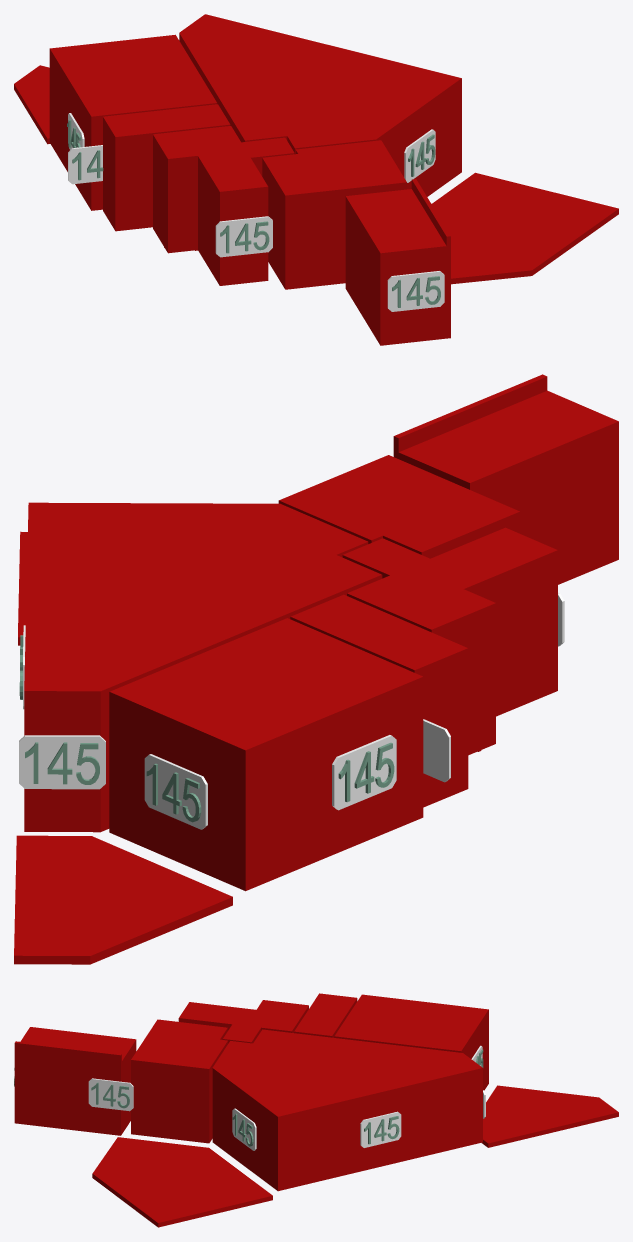
3 renders of one model, top to bottom at view 1: azimuth 30°, elevation 25°; view 2: azimuth 150°, elevation 25°; view 3: azimuth 270°, elevation 25°, orthographic. The views are drawn at different scales.
Parts seen in each view (by area): view 1: g_0, g_3, g_4, g_1, g_6, g_5, g_2, g_7, g_19, g_11, g_27, g_39; view 2: g_1, g_0, g_5, g_3, g_7, g_4, g_2, g_35, g_31, g_23, g_27, g_6; view 3: g_0, g_5, g_6, g_4, g_1, g_7, g_3, g_2, g_43, g_15, g_39.
Part boxes in pixels (left/top/right/bottom): g_0: left=179, top=14, right=461, bottom=196; g_3: left=153, top=126, right=294, bottom=285; g_4: left=262, top=140, right=406, bottom=289; g_1: left=49, top=34, right=217, bottom=210; g_6: left=431, top=172, right=618, bottom=284; g_5: left=345, top=179, right=450, bottom=345; g_2: left=103, top=104, right=230, bottom=231; g_7: left=14, top=65, right=50, bottom=144; g_19: left=215, top=216, right=272, bottom=257; g_11: left=387, top=271, right=444, bottom=311; g_27: left=68, top=145, right=102, bottom=184; g_39: left=404, top=129, right=435, bottom=182; g_1: left=109, top=618, right=423, bottom=891; g_0: left=24, top=502, right=382, bottom=832; g_5: left=393, top=374, right=618, bottom=584; g_3: left=342, top=527, right=557, bottom=755; g_7: left=14, top=835, right=232, bottom=964; g_4: left=278, top=455, right=520, bottom=558; g_2: left=290, top=594, right=468, bottom=807; g_35: left=19, top=735, right=105, bottom=789; g_31: left=144, top=754, right=207, bottom=829; g_23: left=332, top=735, right=396, bottom=810; g_27: left=423, top=719, right=450, bottom=782; g_6: left=18, top=531, right=27, bottom=645; g_0: left=212, top=1029, right=482, bottom=1191; g_5: left=14, top=1027, right=136, bottom=1135; g_6: left=92, top=1137, right=272, bottom=1227; g_4: left=131, top=1019, right=227, bottom=1143; g_1: left=334, top=994, right=488, bottom=1090; g_7: left=481, top=1085, right=618, bottom=1147; g_3: left=178, top=1000, right=308, bottom=1043; g_2: left=294, top=993, right=357, bottom=1037; g_43: left=88, top=1078, right=133, bottom=1111; g_15: left=360, top=1111, right=401, bottom=1147; g_39: left=232, top=1108, right=256, bottom=1150.
Size of the model in its own units: 11.62 by 2.85 by 18.38.
